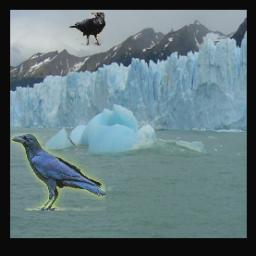Crow: (11, 134, 105, 211), (68, 12, 105, 45)
